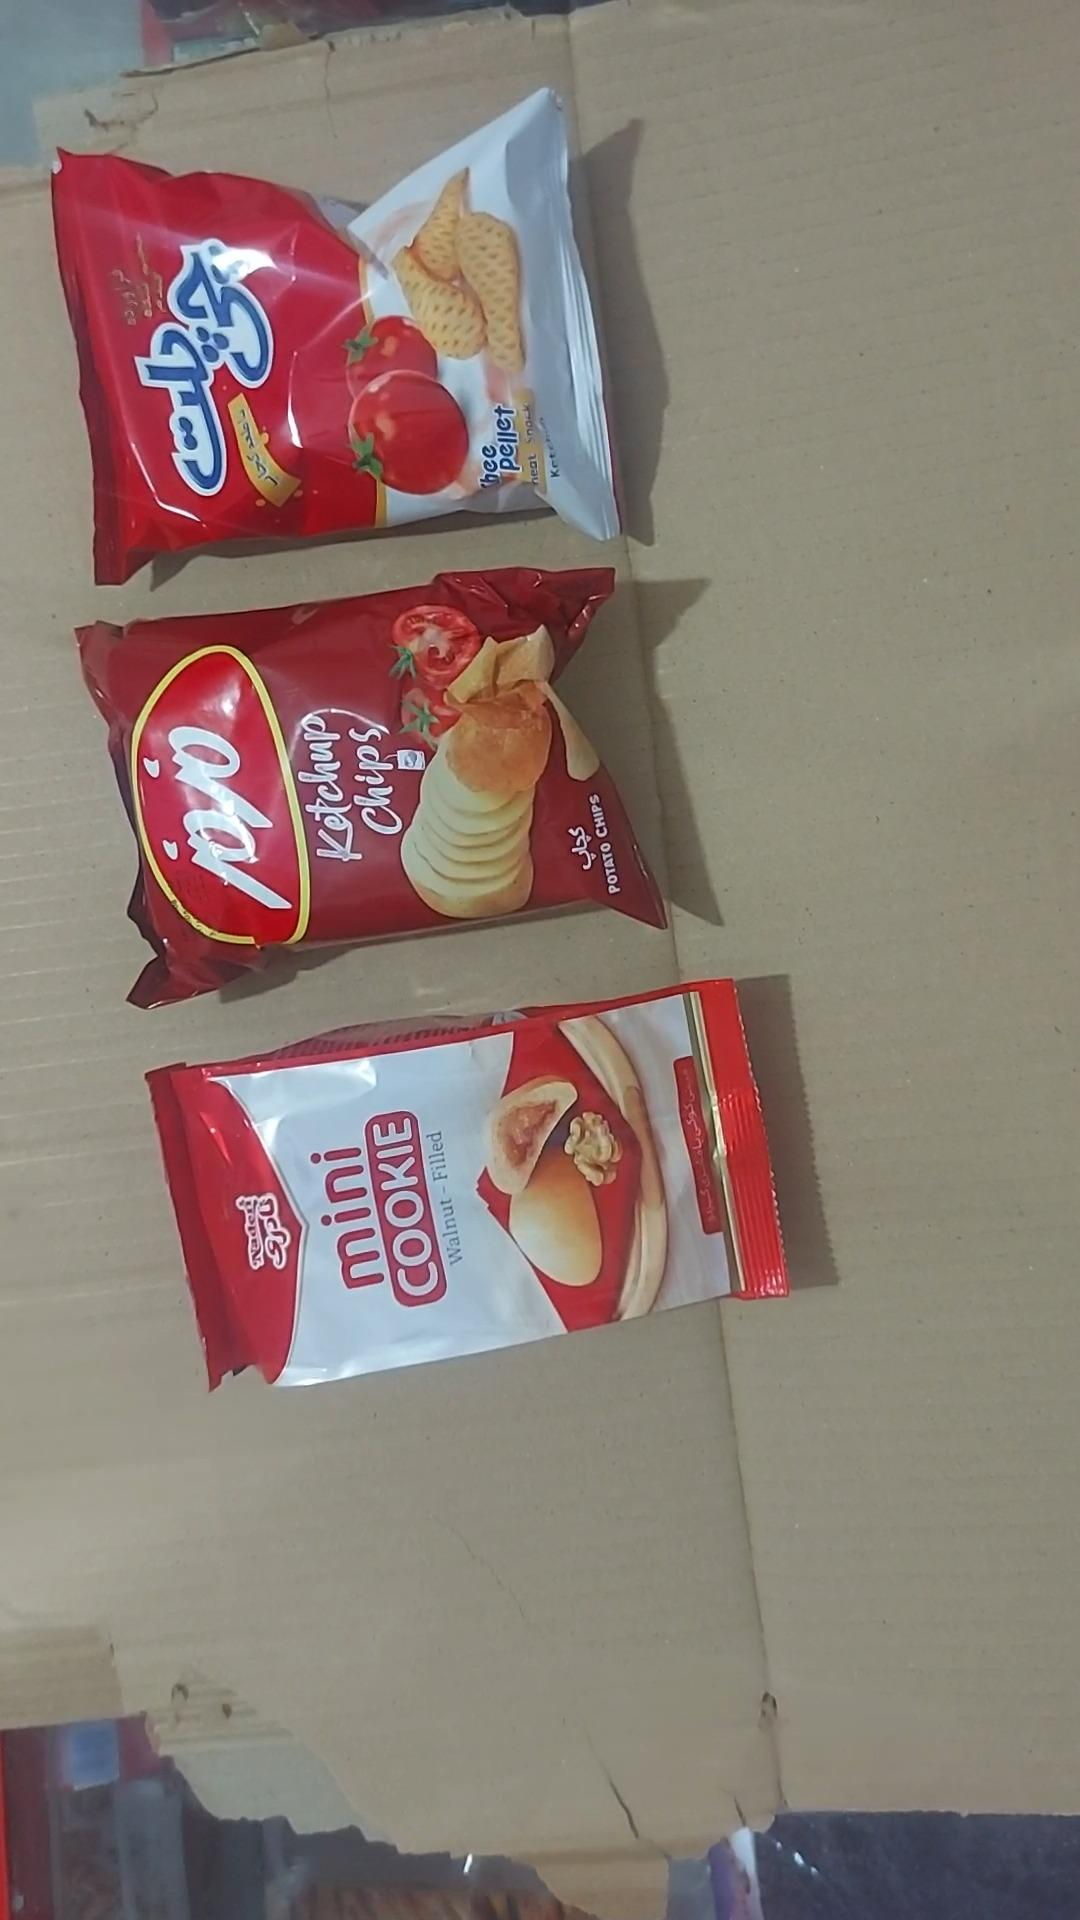Chee pellet ketchup: (49, 88, 620, 589)
Maz Maz ketchup chips: (75, 567, 669, 1011)
Naderi mini cookie: (144, 980, 791, 1393)
